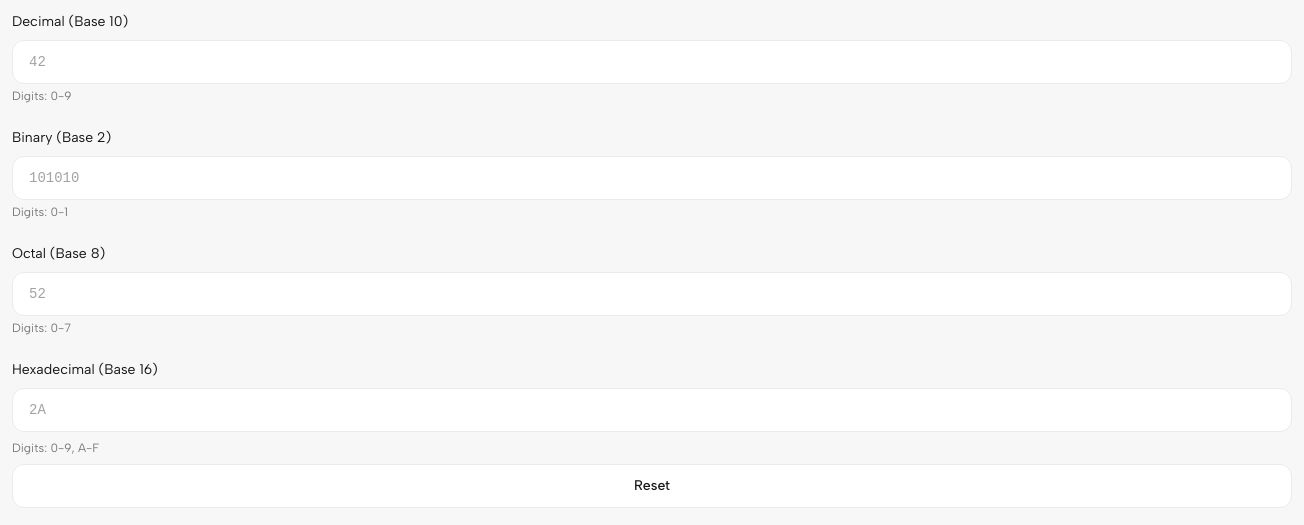
Test: NumberBaseTool › converts hexadecimal to other bases
In the field with placeholder "2A": {"x": 652, "y": 410} 12,388 -> 1292,432, type "FF"
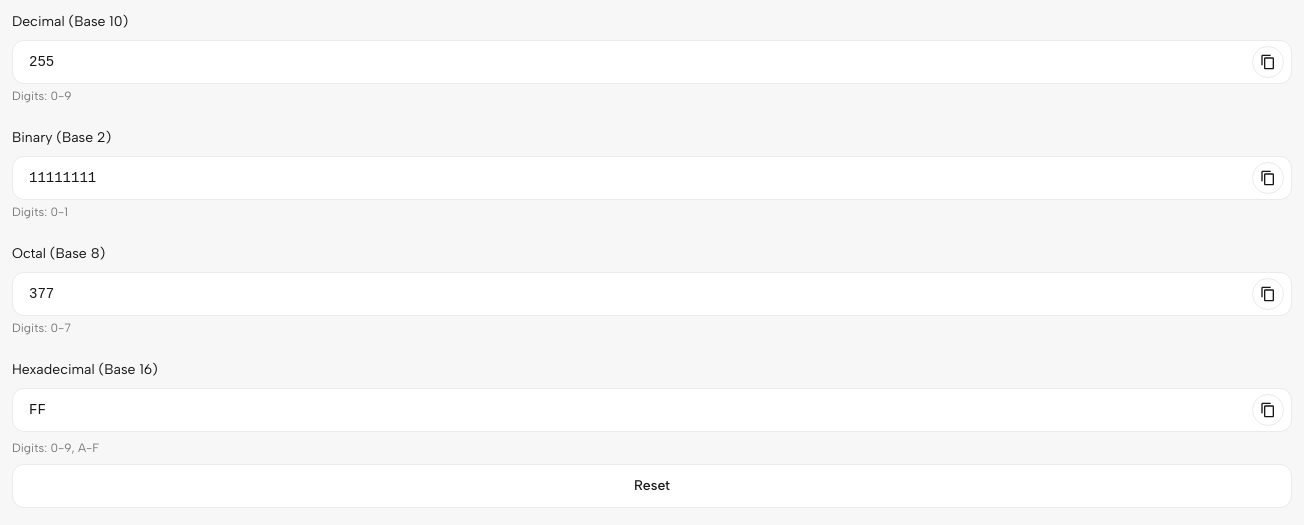
Now the field with placeholder "42" below "Decimal (Base 10)" holds "255", box 12,40 -> 1292,84
Now the field with placeholder "101010" below "Binary (Base 2)" holds "11111111", box 12,156 -> 1292,200
Now the field with placeholder "52" below "Octal (Base 8)" holds "377", box 12,272 -> 1292,316
